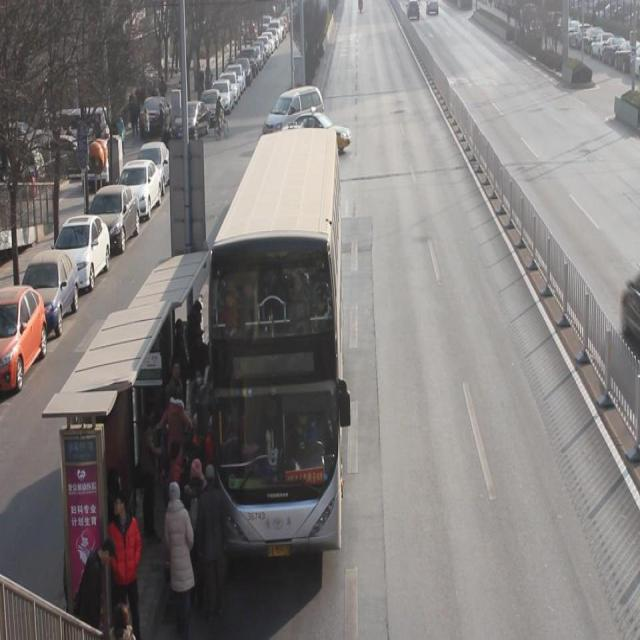car: (282, 112, 354, 156)
truck: (264, 85, 325, 147)
van: (211, 126, 342, 548)
